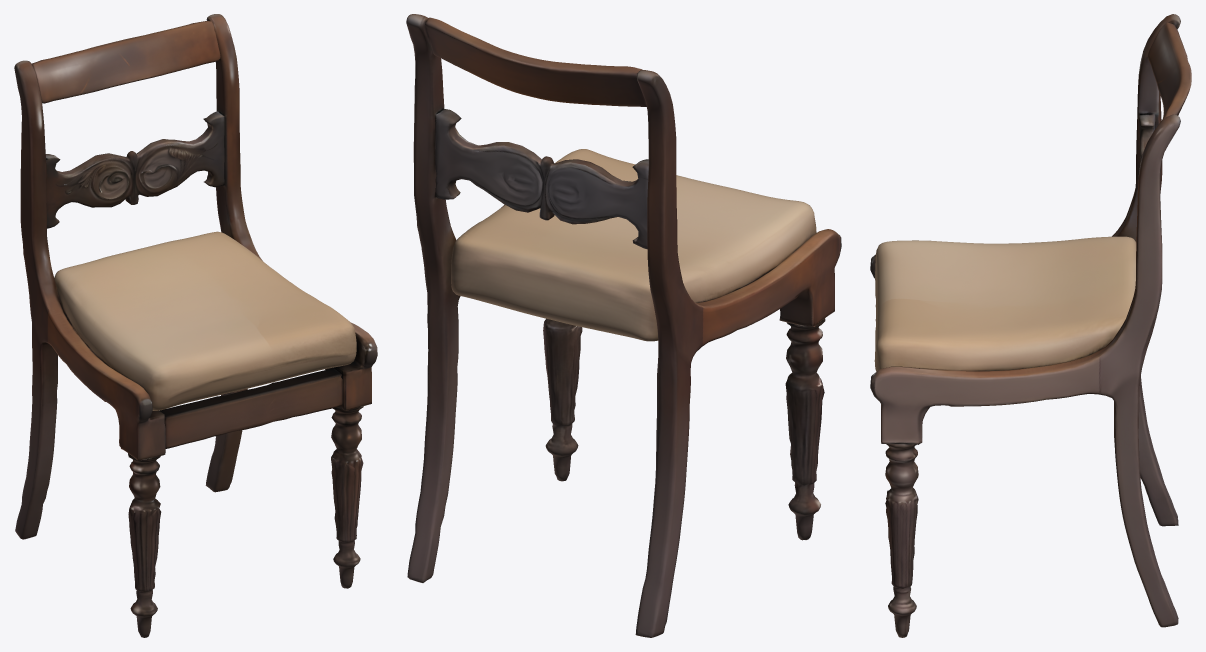
The picture shows the model from 3 angles, left to right: view 1: azimuth 30°, elevation 25°; view 2: azimuth 150°, elevation 25°; view 3: azimuth 270°, elevation 25°; orthographic projection. The views are drawn at different scales.
Visible parts, largest first — view 1: root.0, root.2, root.3, root.1, root.5, root.4, root.7, root.6; view 2: root.0, root.2, root.1, root.3, root.5, root.7, root.6; view 3: root.0, root.1, root.6, root.2, root.5, root.3.
Part boxes in pixels (x1,y1,x2,y2): root.0: (54,231,356,410); root.2: (14,60,165,539); root.3: (45,111,224,228); root.1: (205,14,377,492); root.5: (32,21,220,103); root.4: (159,368,342,448); root.7: (128,453,161,637); root.6: (331,406,363,588); root.0: (451,149,816,341); root.2: (635,70,841,637); root.1: (406,14,504,582); root.3: (435,109,648,249); root.5: (425,17,646,106); root.7: (785,318,825,540); root.6: (543,318,582,481); root.0: (874,236,1136,371); root.1: (870,114,1180,627); root.6: (885,444,918,637); root.2: (870,14,1180,526); root.5: (1147,22,1191,121); root.3: (1139,114,1155,167).
Size of the model in its own units: 0.4281 by 0.83 by 0.4672.
8 materials, 8 textured.
